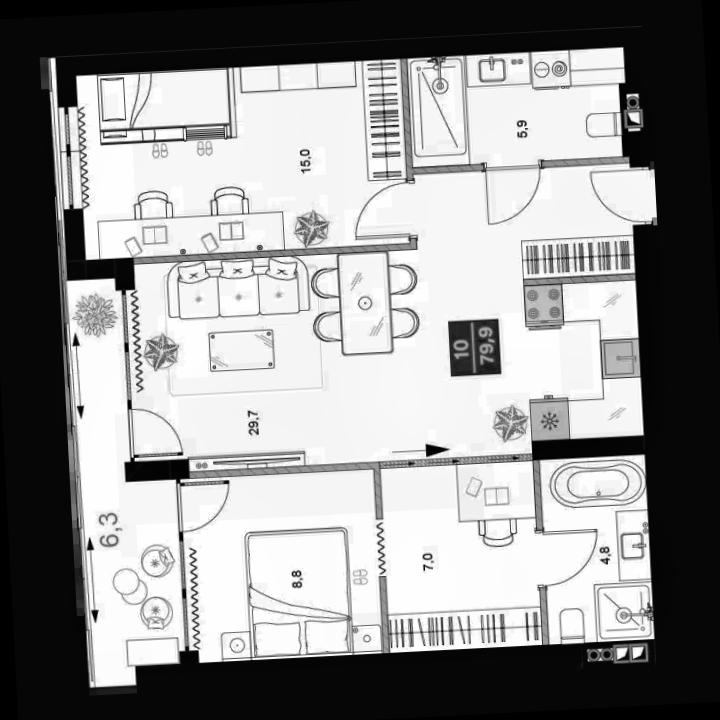door: (529, 522, 602, 592), (346, 176, 420, 243), (481, 154, 547, 228), (586, 163, 658, 228), (122, 401, 187, 459), (172, 475, 236, 533)
window: (174, 537, 190, 591), (121, 348, 136, 404), (117, 292, 132, 346), (178, 593, 192, 649), (62, 152, 76, 206), (60, 106, 74, 149)
